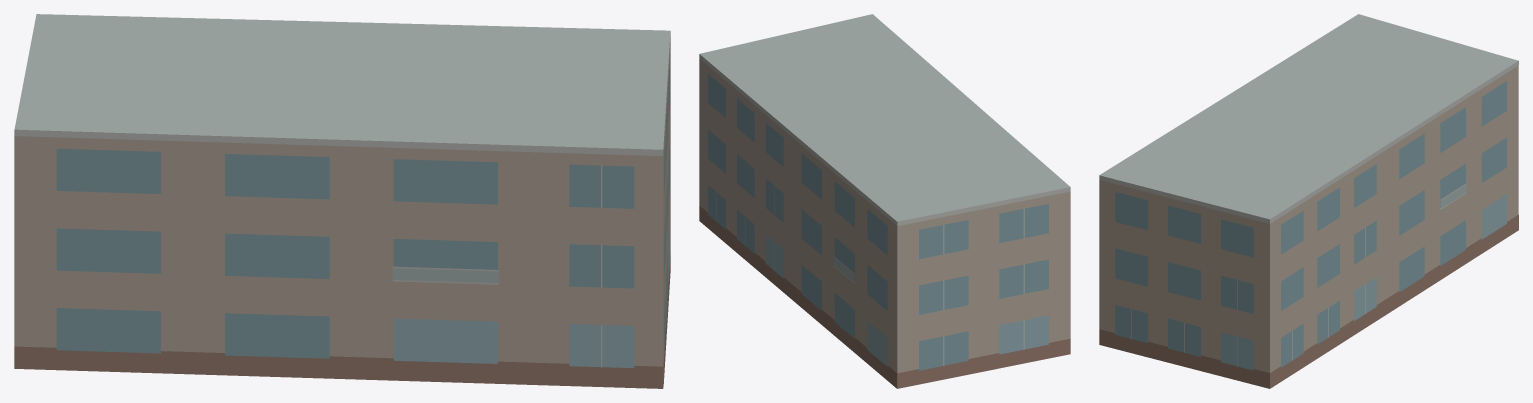
The model's file is survey-upis-32689145.glb.
3 renders of one model, left to right at view 1: azimuth 30°, elevation 25°; view 2: azimuth 150°, elevation 25°; view 3: azimuth 270°, elevation 25°, orthographic. The views are drawn at different scales.
Visible parts, largest first — view 1: survey-upis-32689145.tmp; view 2: survey-upis-32689145.tmp; view 3: survey-upis-32689145.tmp.
Boxes of the visible parts, x1,y1,x2,y2 form: survey-upis-32689145.tmp: [14, 14, 670, 388]; survey-upis-32689145.tmp: [699, 14, 1070, 388]; survey-upis-32689145.tmp: [1099, 14, 1518, 388].
Bounding box in the file's own units: 23.78 × 9.15 × 20.53.
